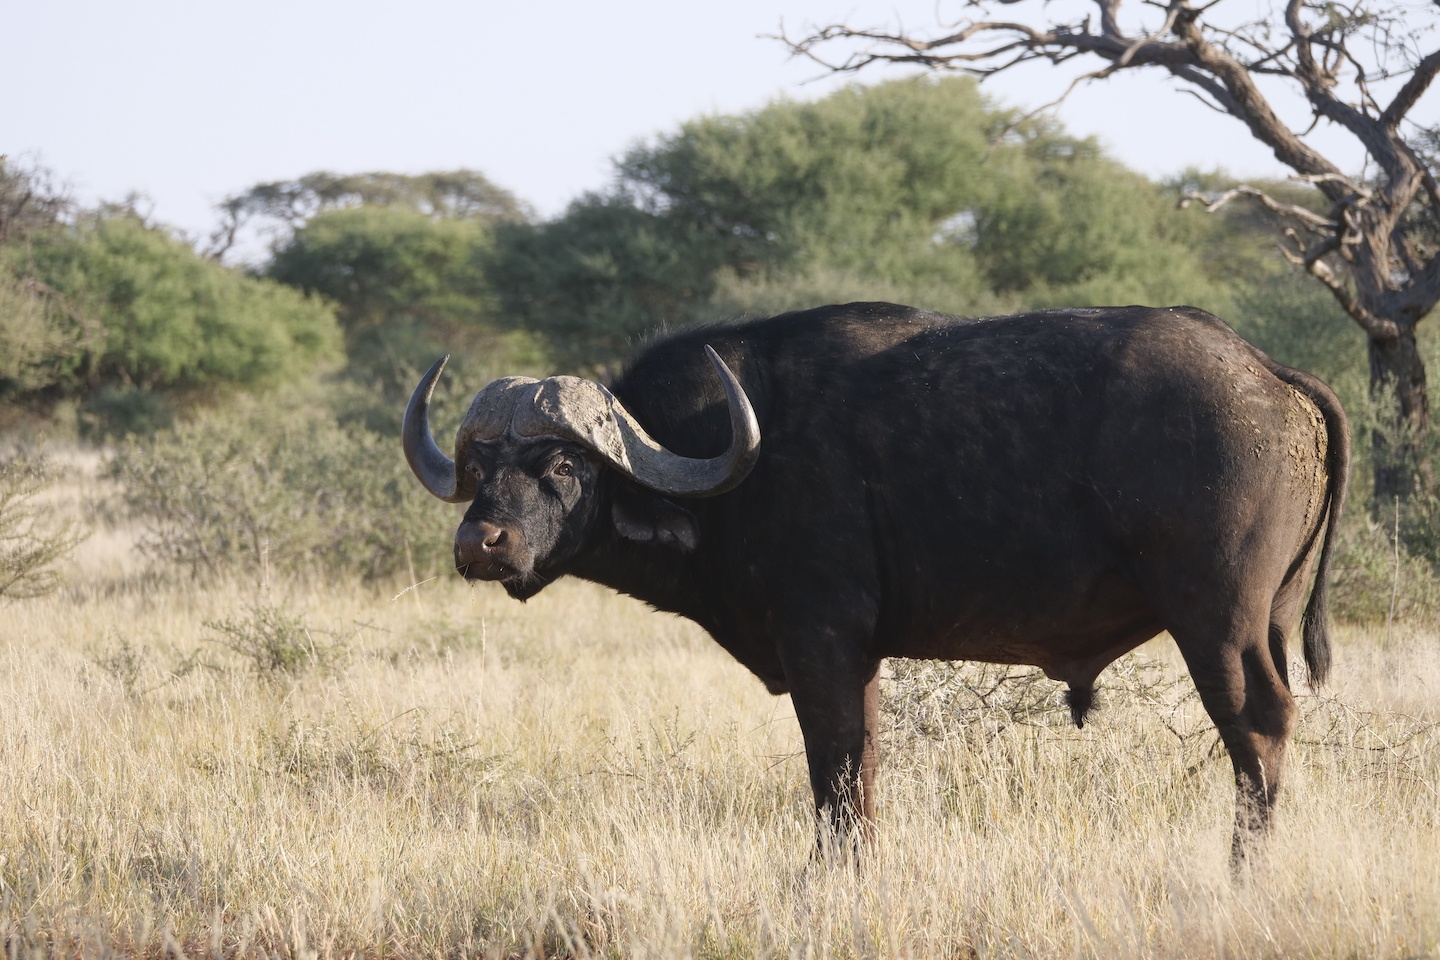buffalo: (399, 306, 1352, 883)
